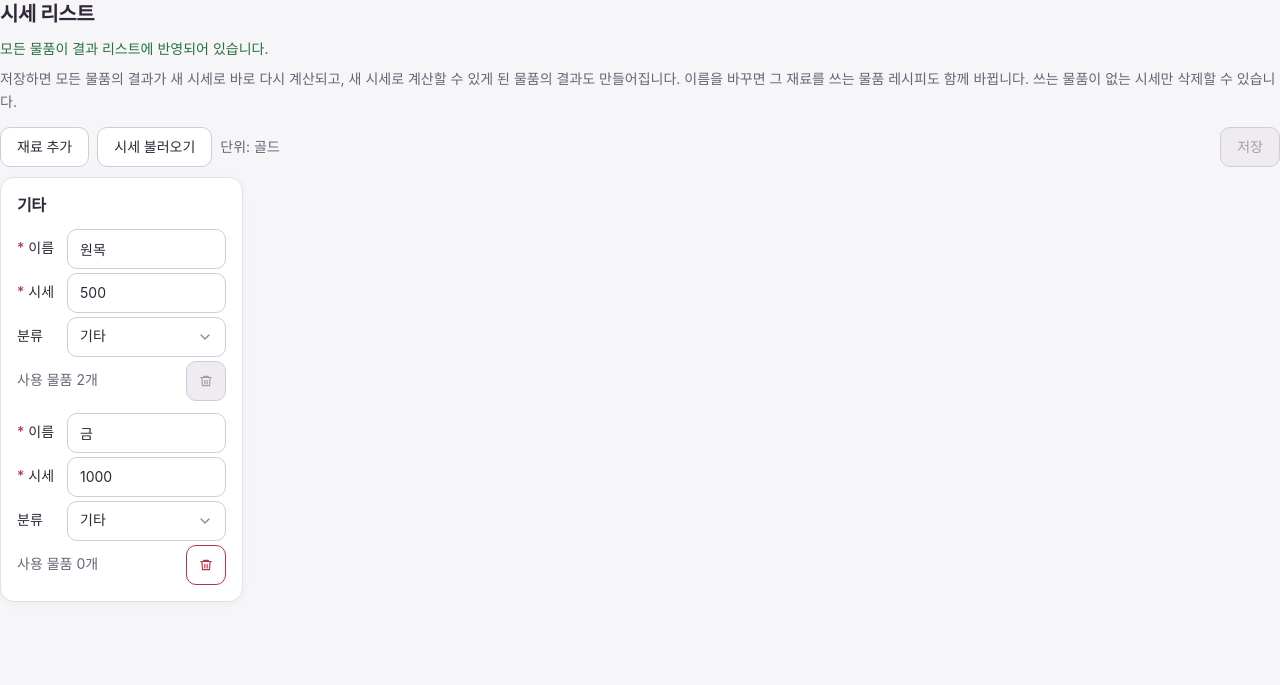
Test: MarketManagePage › 재료 추가 모달에서 바로 저장하고, 편집 중인 입력값은 둔 채 새 시세를 덧붙인다
Replace the text in the number field named "원목 시세" with "700" at [147, 293], box x1=80 y1=274 x2=213 y2=312
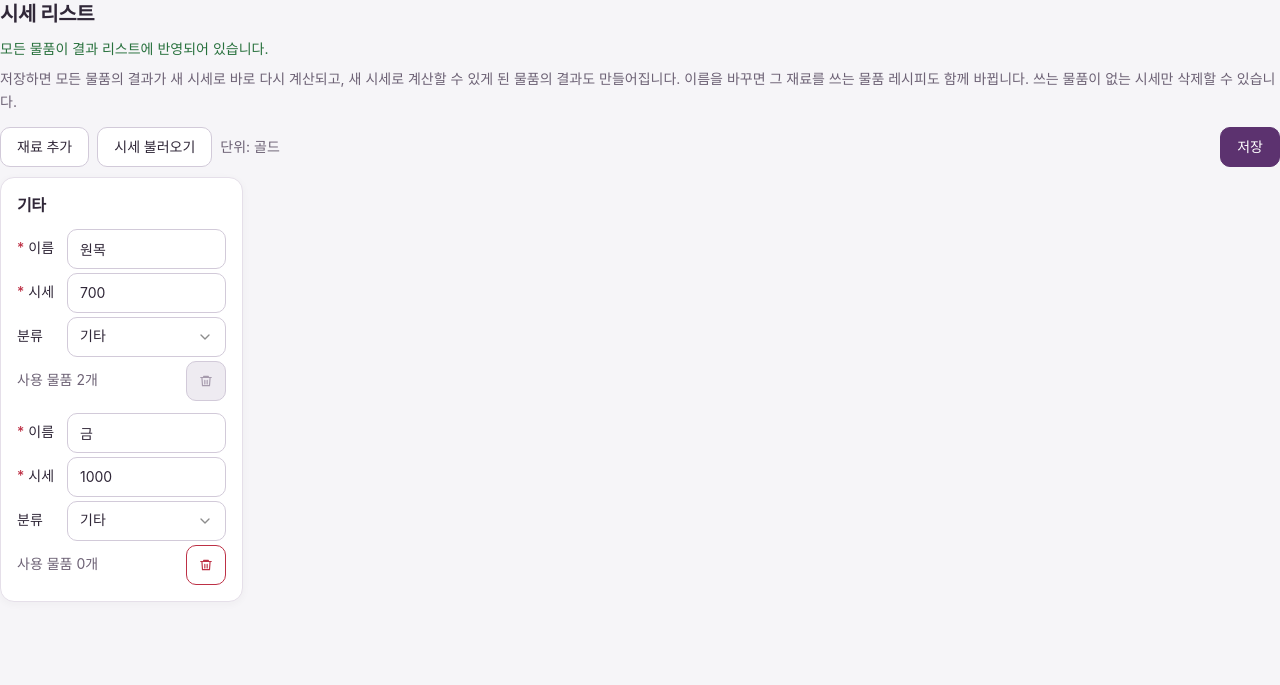
Click the button "재료 추가" at [45, 147], box x1=0 y1=127 x2=89 y2=167
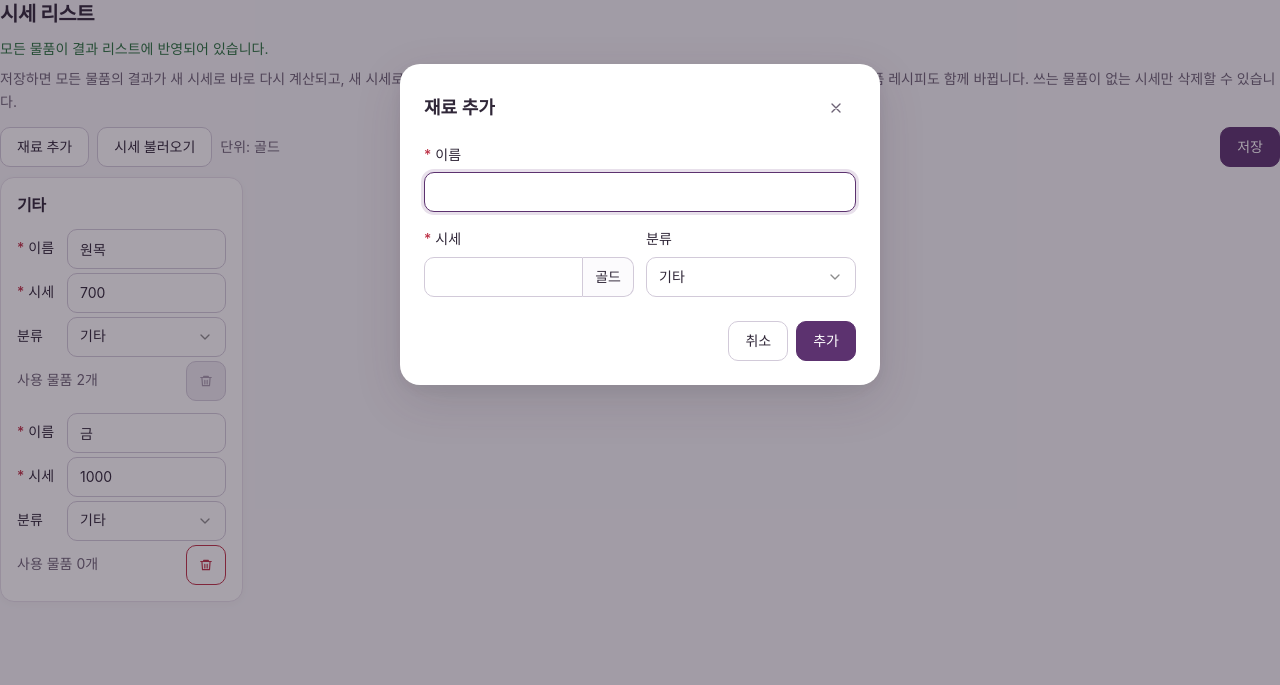
Type "은" into the field labelled "이름" at [640, 192], box x1=437 y1=173 x2=843 y2=211
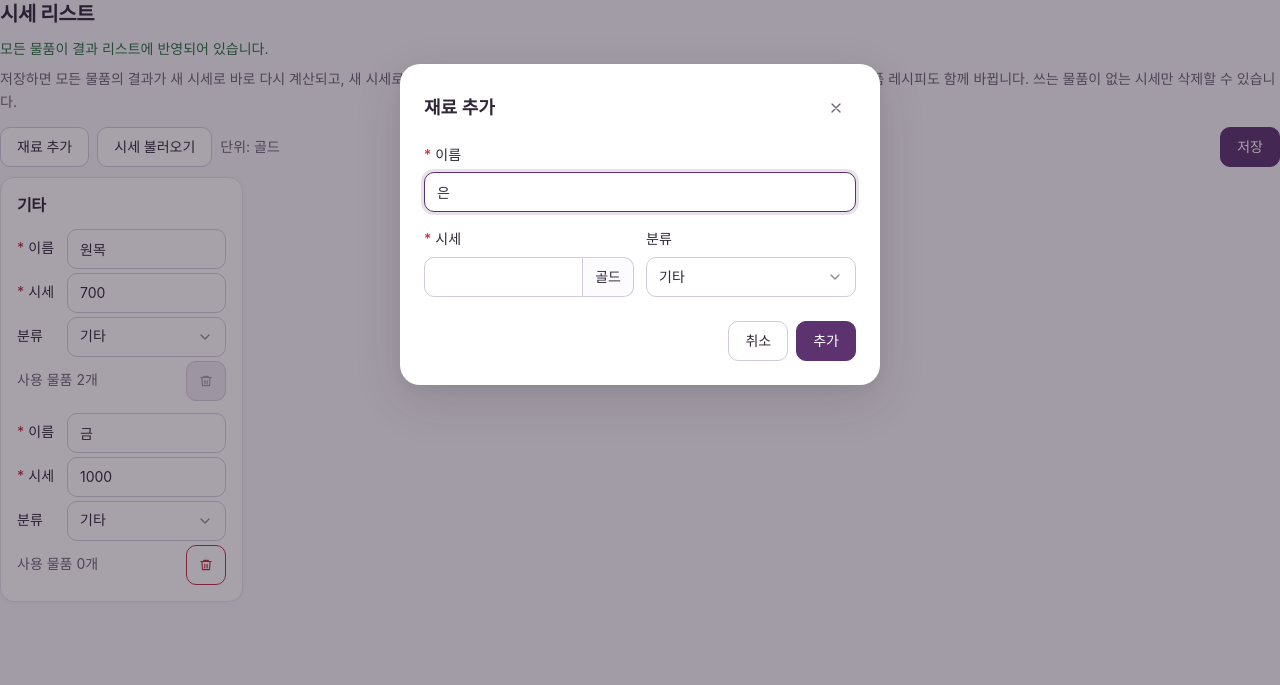
Type "50" into the number field labelled "시세" at [504, 277], box x1=437 y1=258 x2=570 y2=296
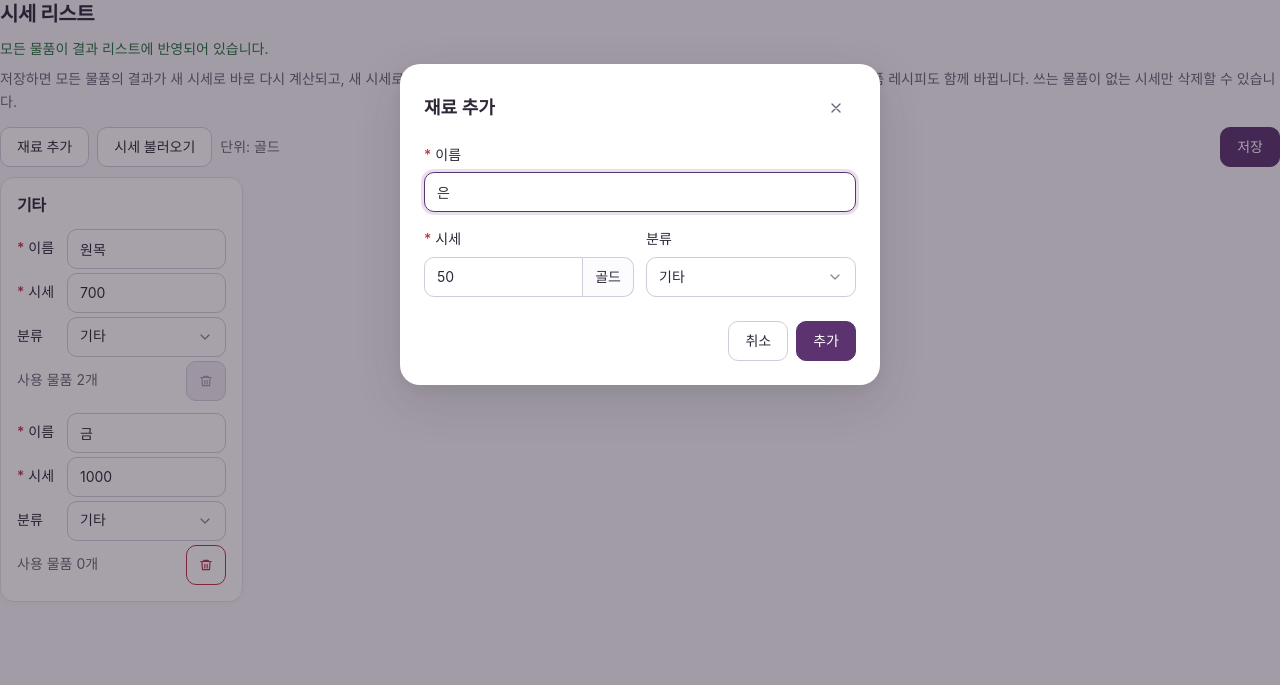
Click the button "추가" at [826, 341], box x1=796 y1=321 x2=856 y2=361
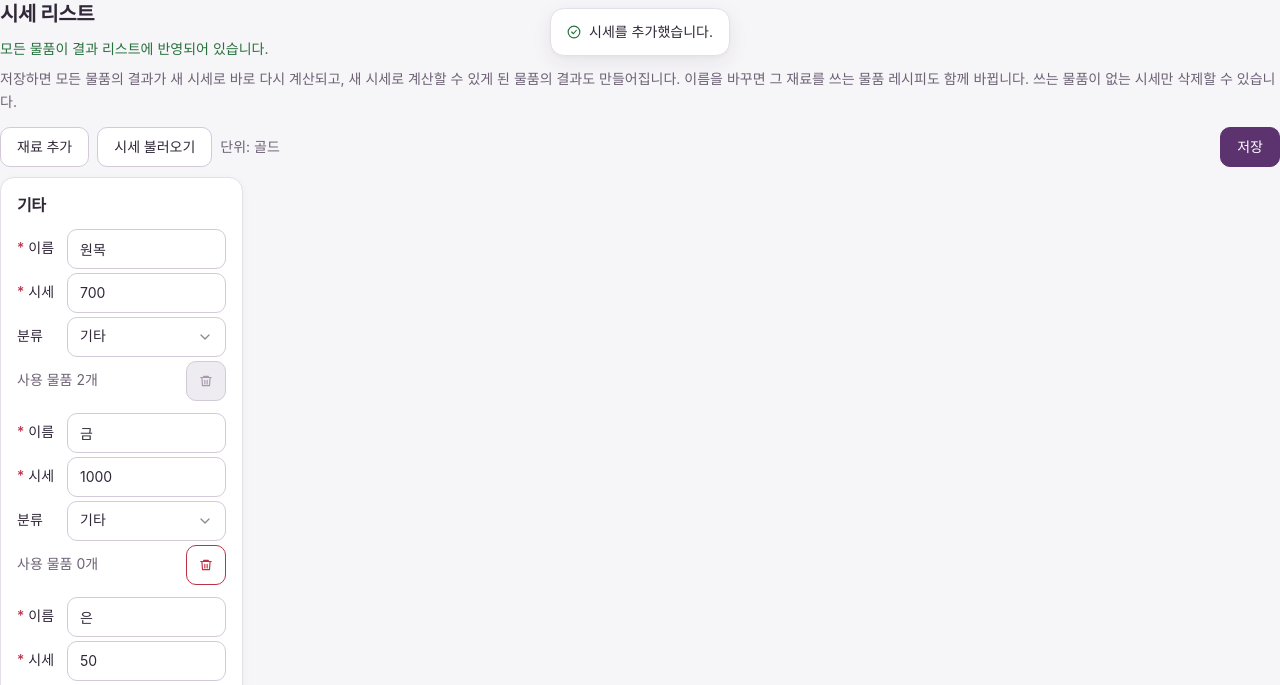
Now the text "시세를 추가했습니다." is shown, box x1=589 y1=21 x2=713 y2=43
Now the number field named "은 시세" holds "50", box x1=80 y1=642 x2=213 y2=680
